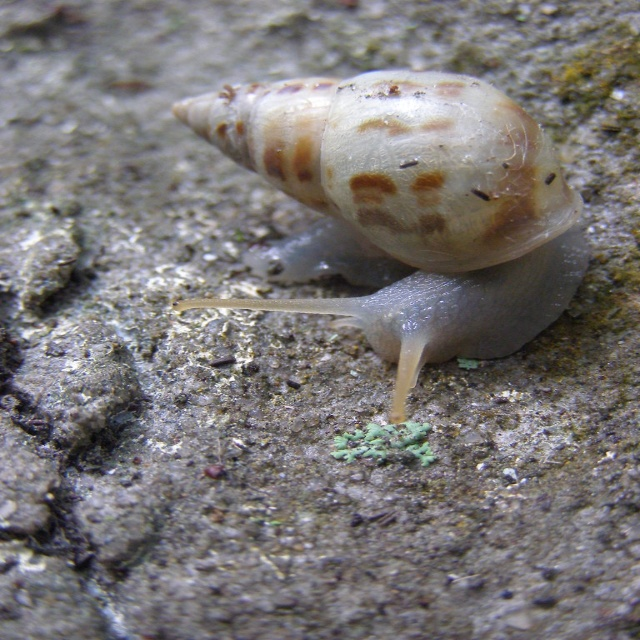Snail: (167, 66, 598, 426)
